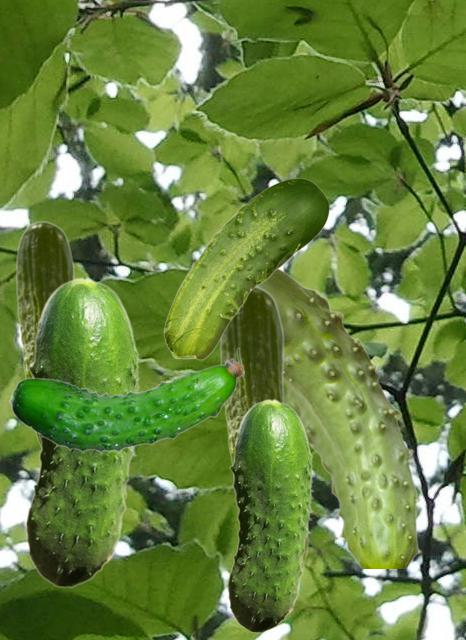cucumber: (259, 268, 421, 567), (25, 276, 140, 587), (163, 178, 328, 359), (219, 286, 308, 568), (8, 347, 243, 453), (227, 398, 313, 632), (15, 220, 75, 446)
